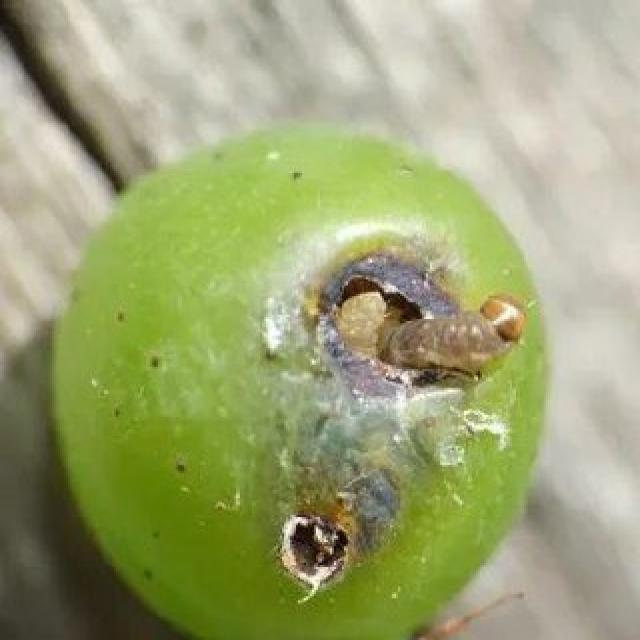Rotten: (93, 131, 581, 640)
